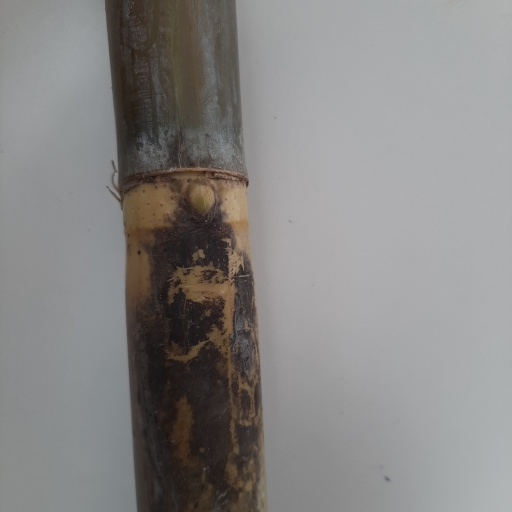Bud: (186, 179, 218, 225)
